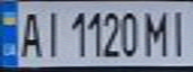0: (118, 8, 142, 57)
1: (66, 7, 87, 57), (84, 8, 103, 57)
2: (103, 7, 124, 58)
A: (15, 7, 45, 60)
I: (39, 6, 66, 60), (166, 6, 193, 57)
M: (142, 7, 172, 57)
